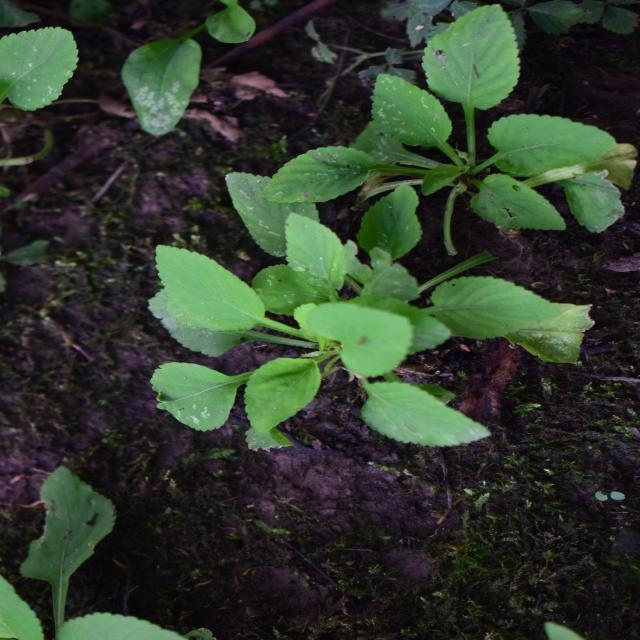Viola: (190, 135, 422, 540), (413, 275, 625, 606)
